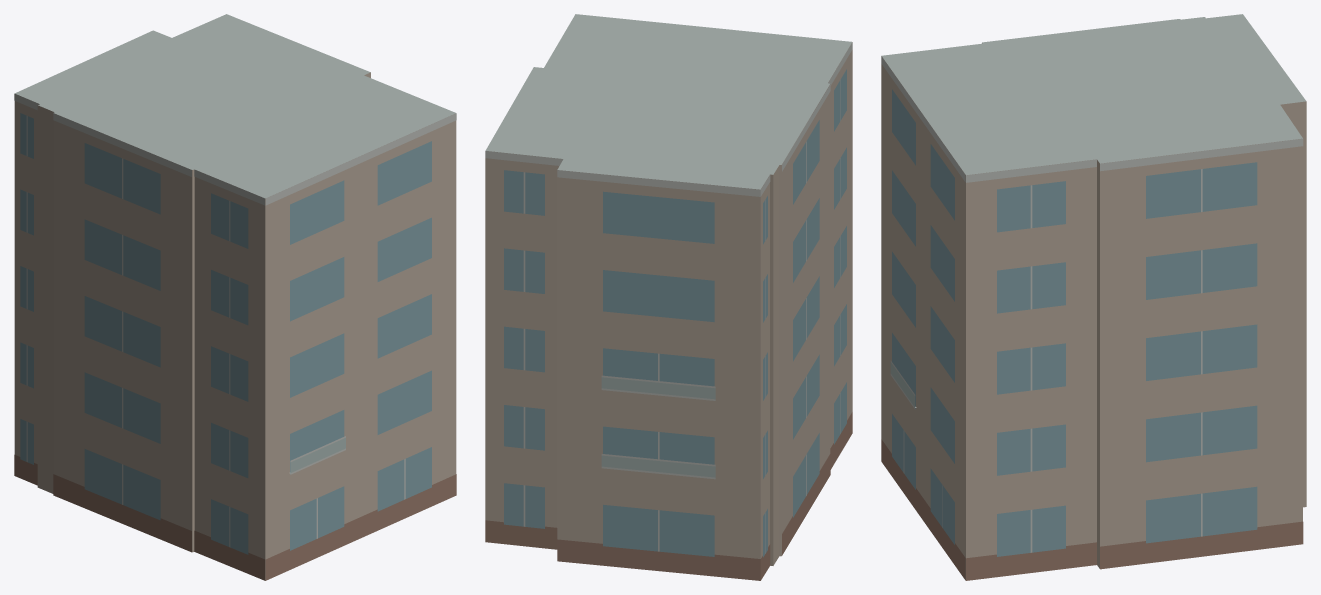
The model's file is survey-upis-32956480.glb.
3 views of the same model, side by side, from view 1: azimuth 30°, elevation 25°; view 2: azimuth 150°, elevation 25°; view 3: azimuth 270°, elevation 25° (orthographic). The views are drawn at different scales.
Visible parts, largest first — view 1: survey-upis-32956480.tmp; view 2: survey-upis-32956480.tmp; view 3: survey-upis-32956480.tmp.
Part boxes in pixels (box(x1,y1,x2,y2)): survey-upis-32956480.tmp: box(14, 14, 456, 580); survey-upis-32956480.tmp: box(485, 14, 852, 580); survey-upis-32956480.tmp: box(881, 14, 1306, 580).
Size of the model in its own units: 11.01 by 12.9 by 12.27.
